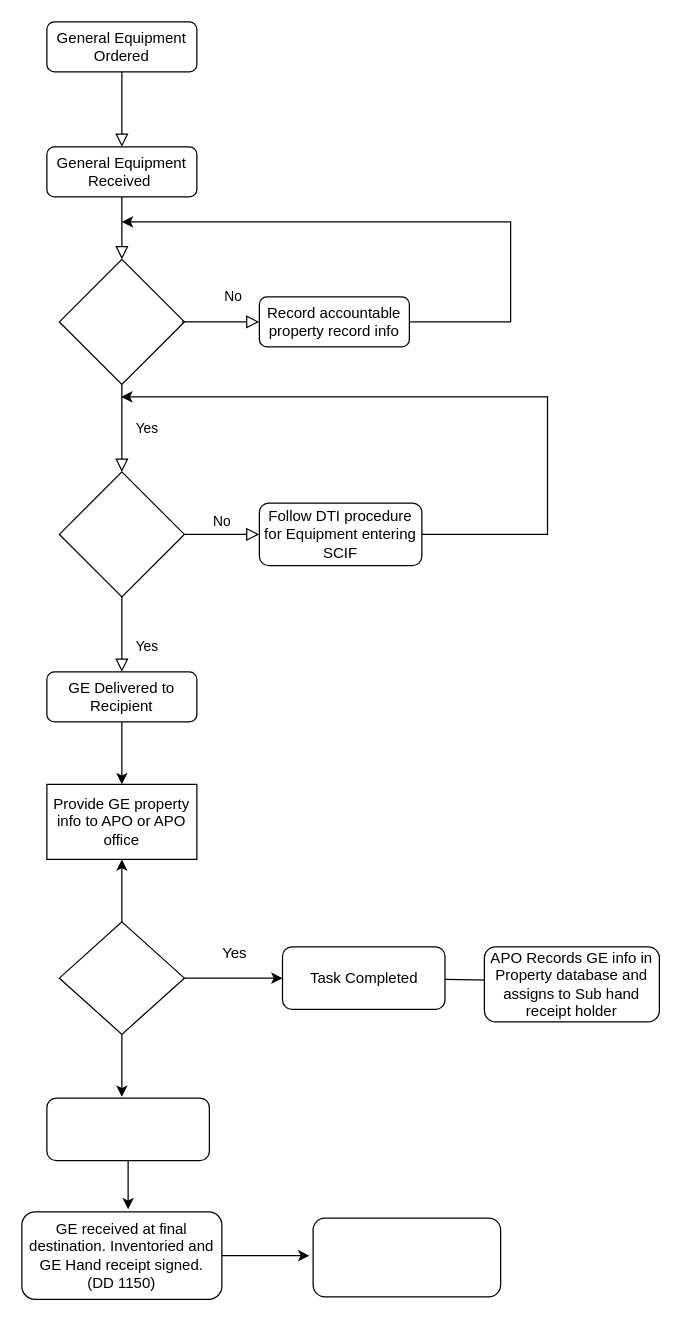
Image size: 681x1321. Some labels were removed from this diagram. Each missing label, with the box of its shape:
Accountable Property info recorded?: (58, 258, 184, 384)
Ensure APO Office receives updated DD1150 to update Property database: (312, 1217, 501, 1297)
Ensure proper approvals and DD form 1150 completed.: (46, 1097, 209, 1161)
GE staying at DTI HQ?: (58, 921, 184, 1034)
PSM/CSU Checked prior to entry to DTI: (58, 471, 184, 597)
